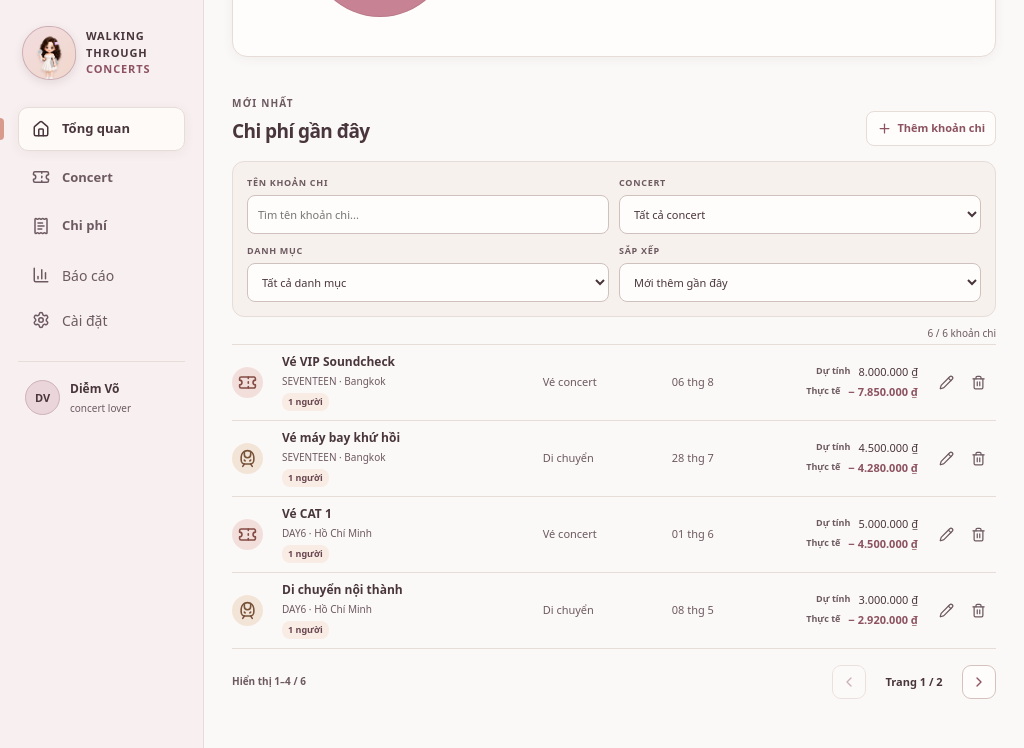
Scenario: Walking Through Concerts dashboard › edits an existing expense
The width and height of the screenshot is (1024, 748).
(page scrolled)
Click the button named "Chỉnh sửa Vé VIP Soundcheck": (946, 382) [932,368,961,397]
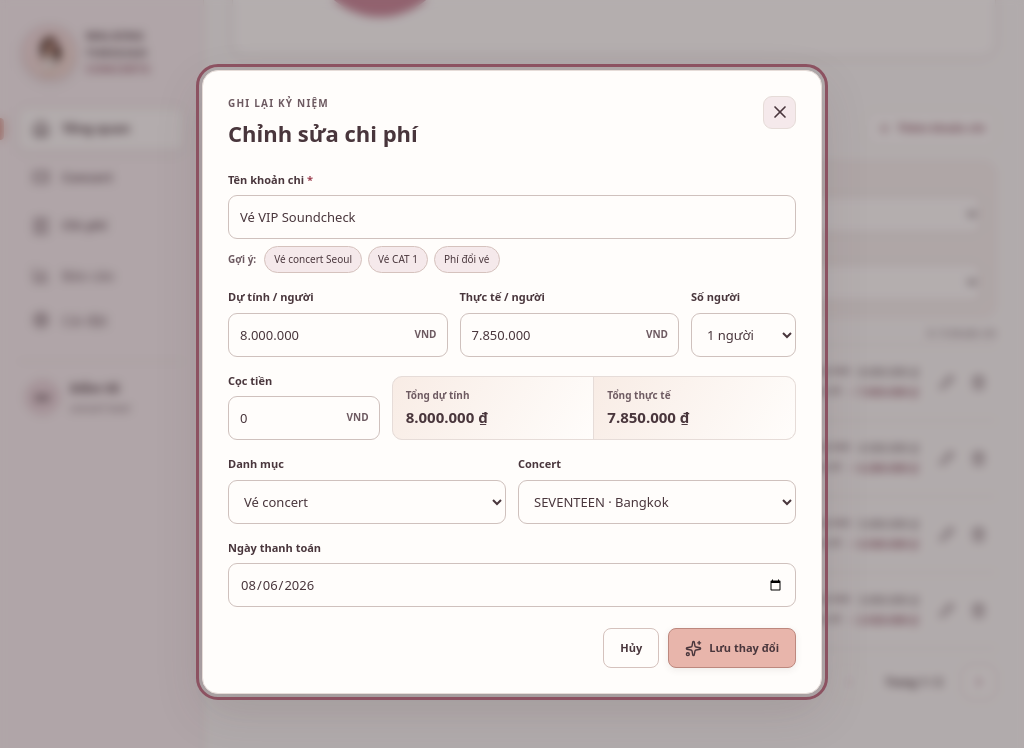
Replace the text in the field labelled "Thực tế / người" with "8000000": (569, 335) [460,313,679,357]
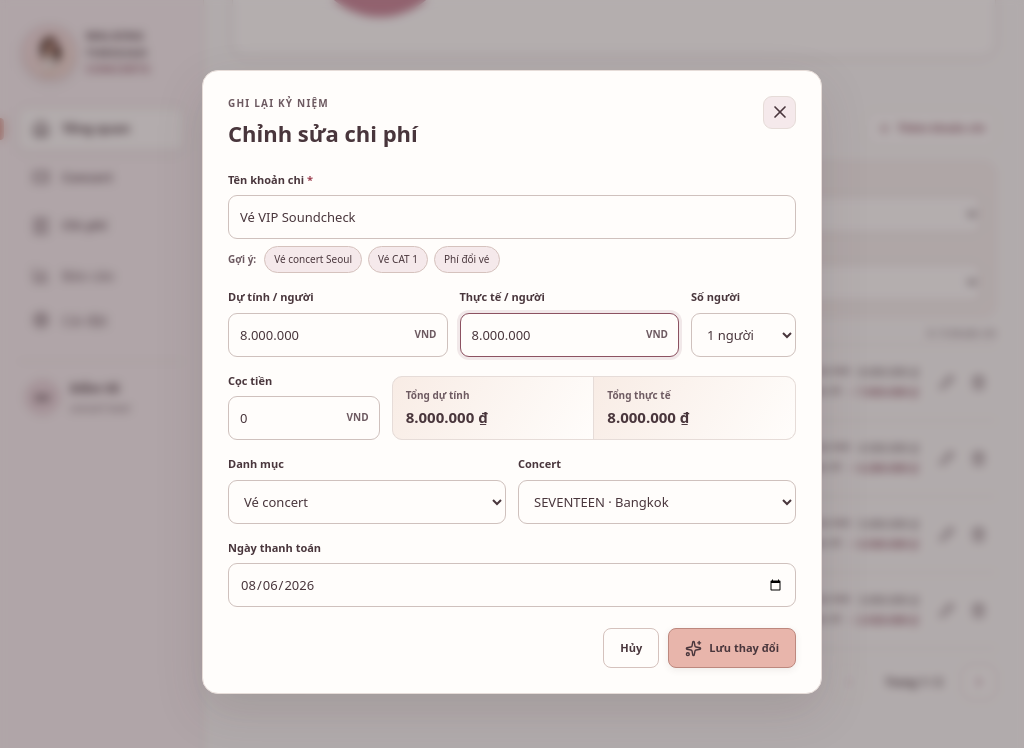
Click the button "Lưu thay đổi": (732, 648) [668,628,796,668]
(page scrolled)
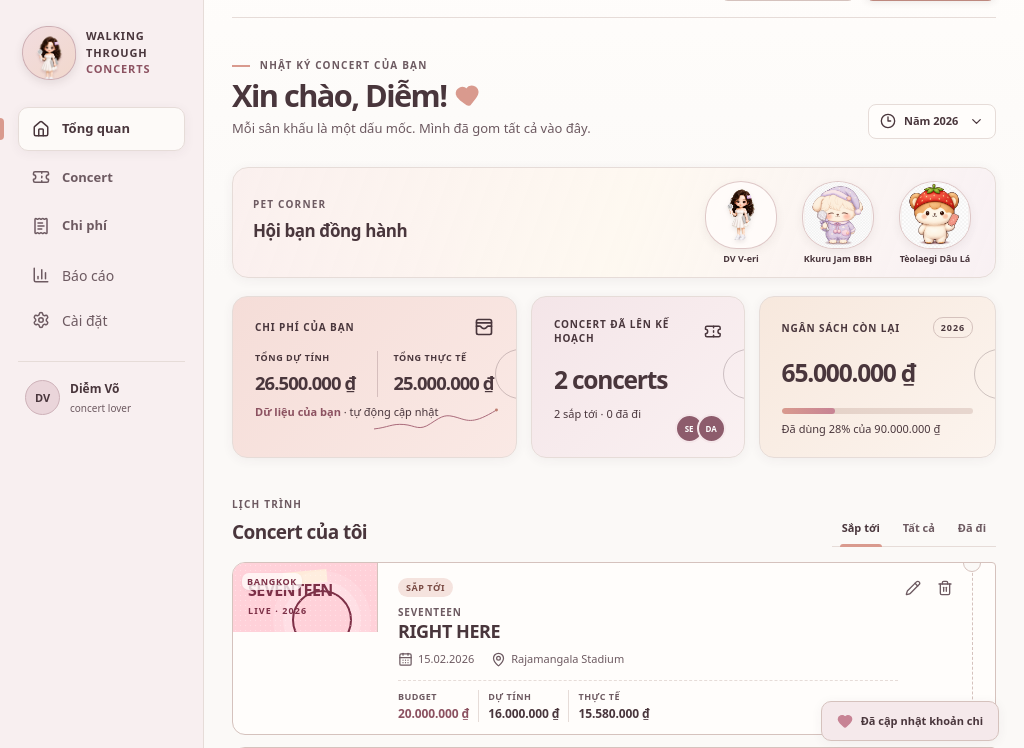
expect the text "25.000.000 ₫" is shown: met, box [393,369,494,397]
